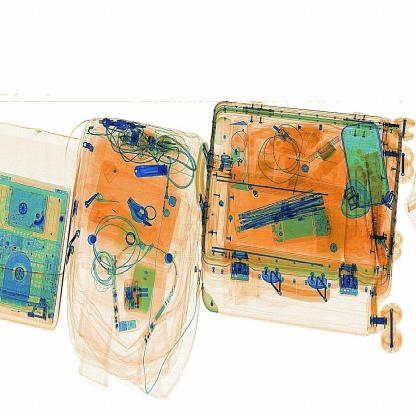knife: (128, 156, 176, 189)
